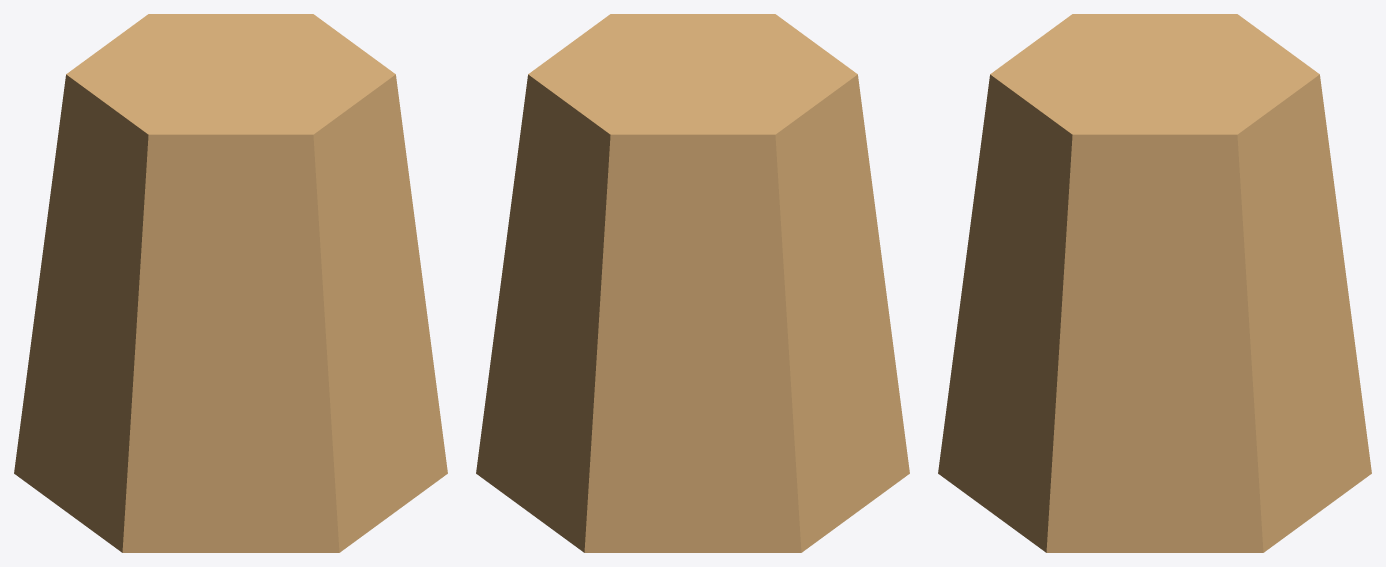
Rendered from Beam.fbx.
3 views of the same model, side by side, from view 1: azimuth 30°, elevation 25°; view 2: azimuth 150°, elevation 25°; view 3: azimuth 270°, elevation 25° (orthographic).
Visible parts, largest first — view 1: Cone; view 2: Cone; view 3: Cone.
Boxes of the visible parts, x1,y1,x2,y2 form: Cone: [14, 14, 447, 552]; Cone: [476, 14, 909, 552]; Cone: [938, 14, 1371, 552].
Bounding box in the file's own units: 173 × 203 × 200.
